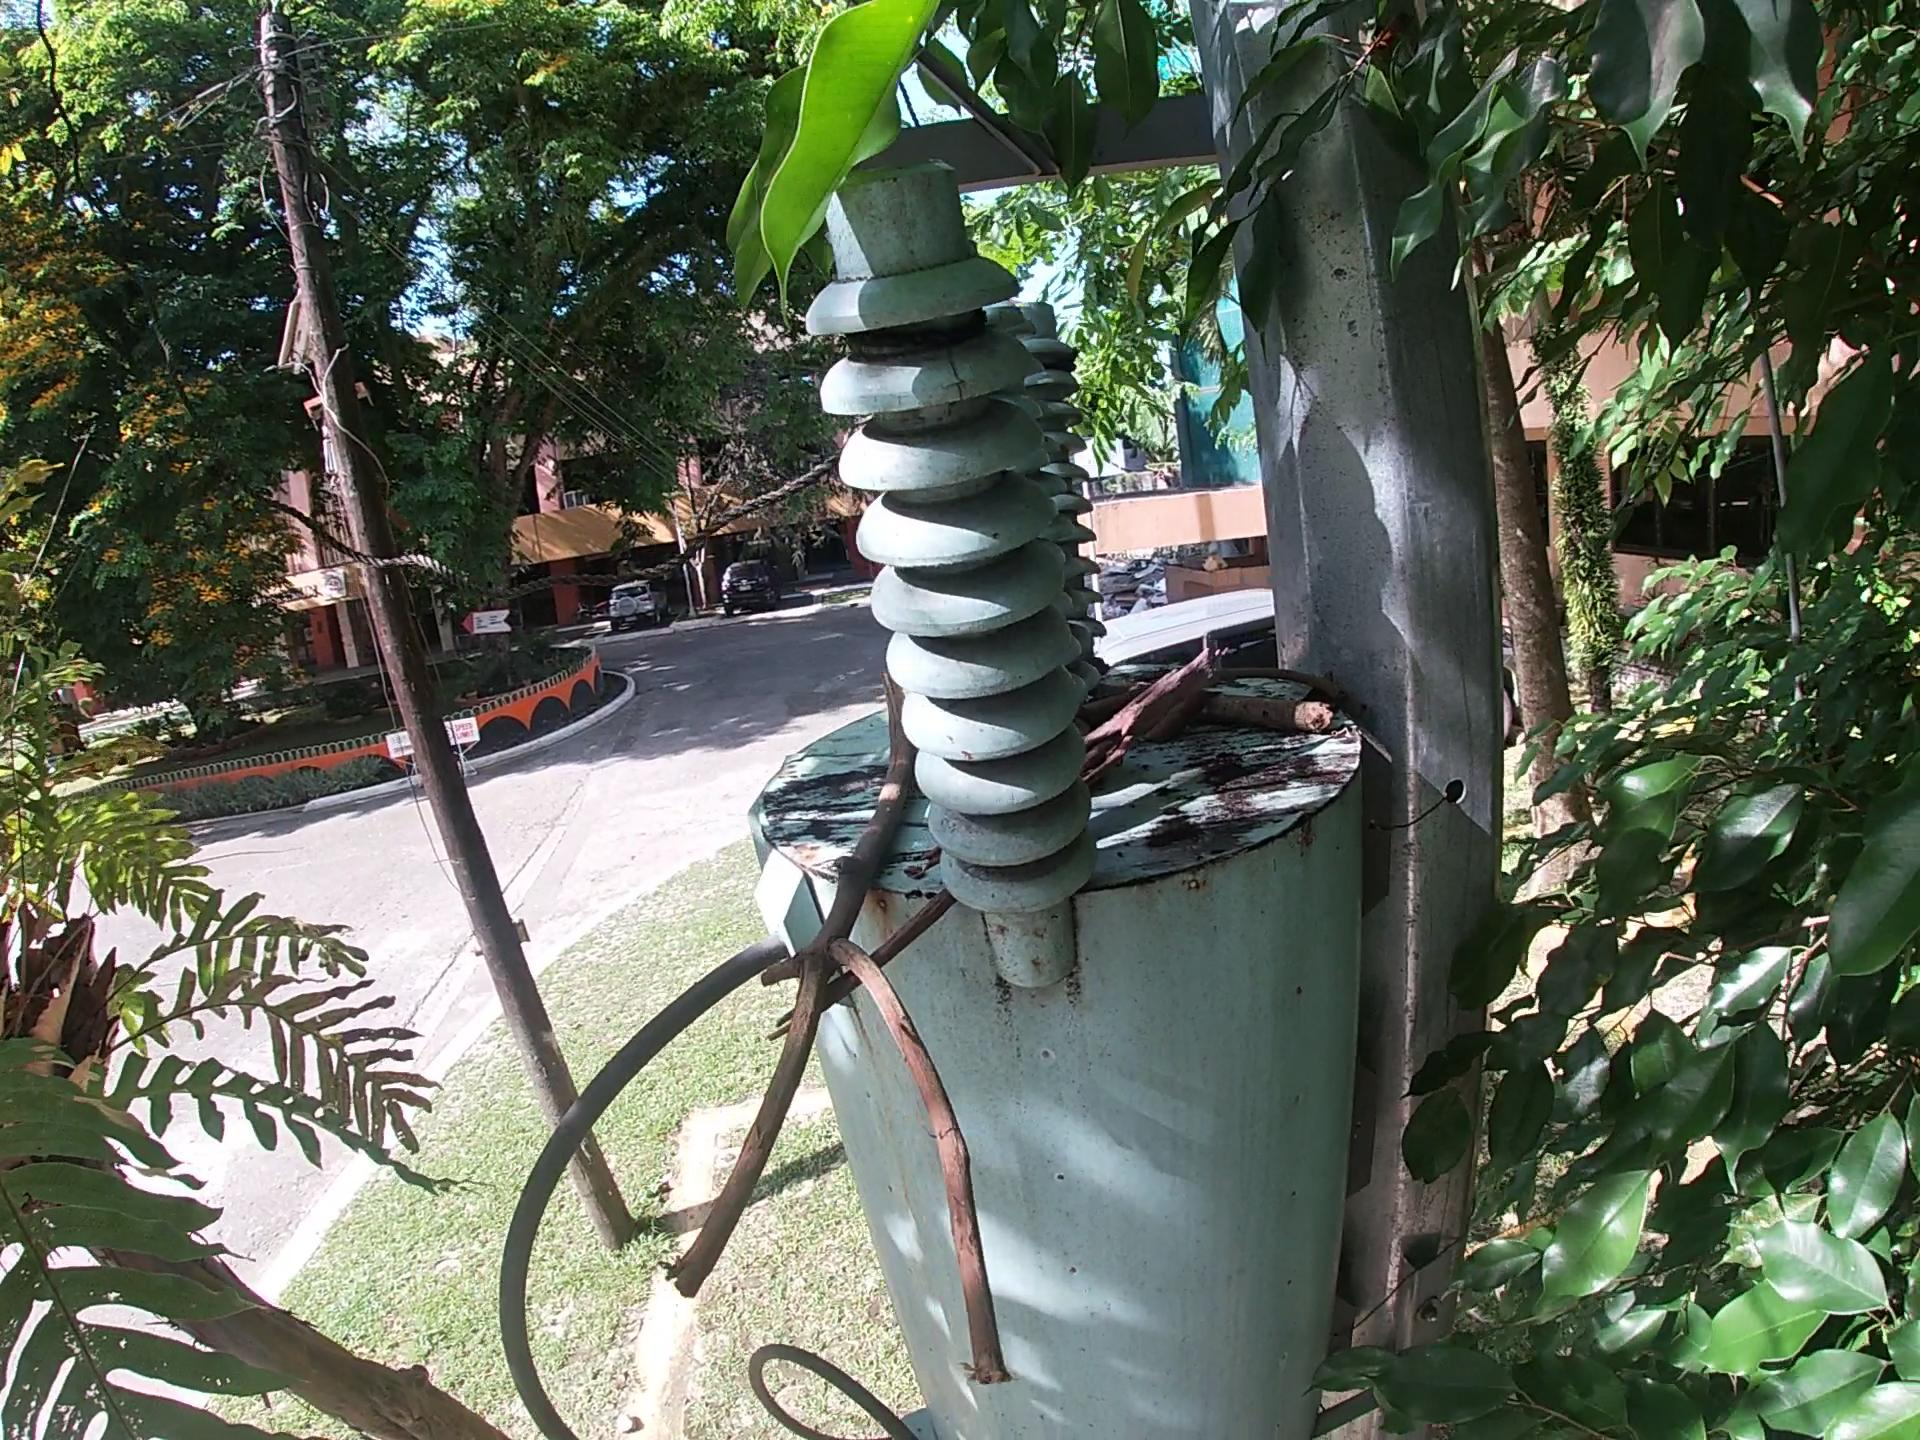leaf: (1129, 685, 1234, 758)
tree branch: (649, 667, 1034, 1392), (763, 879, 968, 1044), (1076, 641, 1226, 787), (1090, 684, 1336, 740), (1202, 663, 1353, 714)
